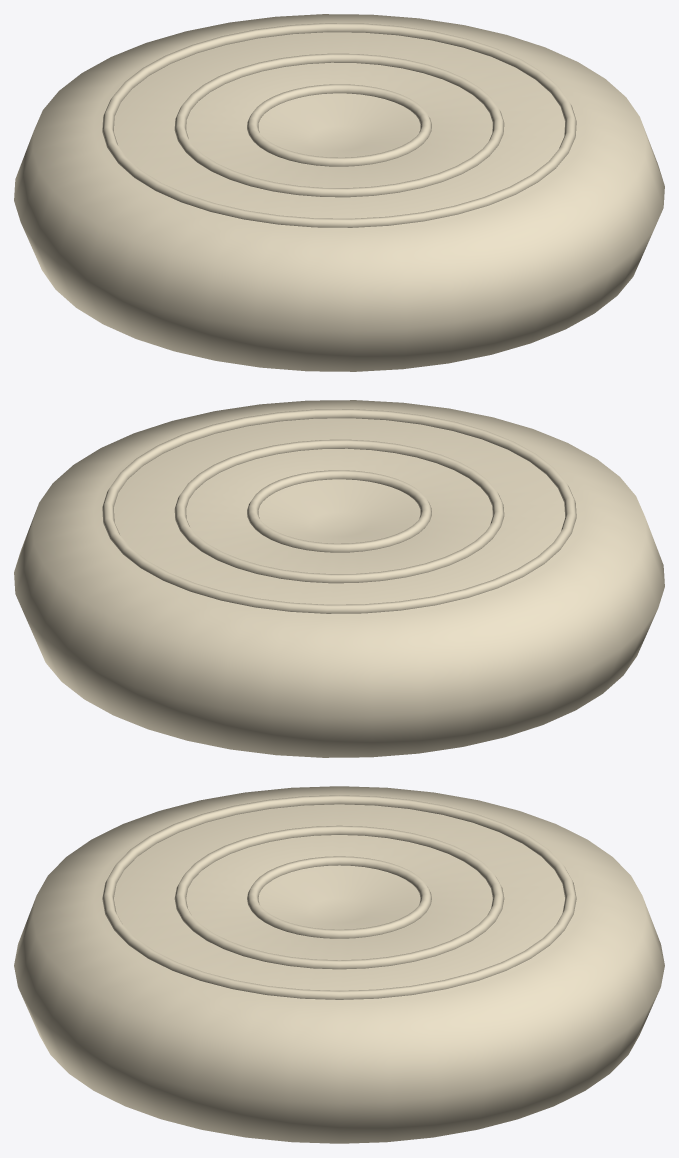
File: sg_cushion.glb
3 renders of one model, top to bottom at view 1: azimuth 30°, elevation 25°; view 2: azimuth 150°, elevation 25°; view 3: azimuth 270°, elevation 25°, orthographic.
Parts seen in each view (by area): view 1: puff, coil2, coil1, coil0; view 2: puff, coil2, coil1, coil0; view 3: puff, coil2, coil1, coil0.
Part boxes in pixels (x1,y1,x2,y2): puff: (14,14,664,371); coil2: (102,23,576,227); coil1: (174,53,504,197); coil0: (247,84,431,166); puff: (14,400,664,757); coil2: (102,409,576,613); coil1: (174,439,504,583); coil0: (247,470,431,552); puff: (14,786,664,1143); coil2: (102,795,576,999); coil1: (174,825,504,969); coil0: (247,856,431,938).
Bounding box in the file's own units: 0.45 × 0.1045 × 0.45.
